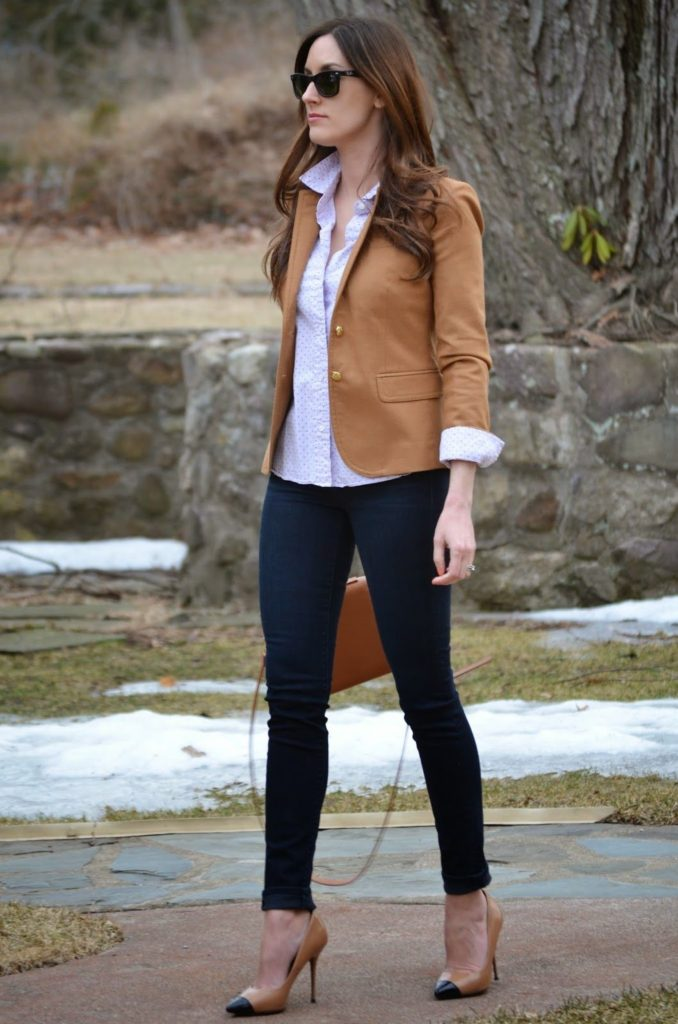F_W_suit jacket: (262, 153, 503, 493)
